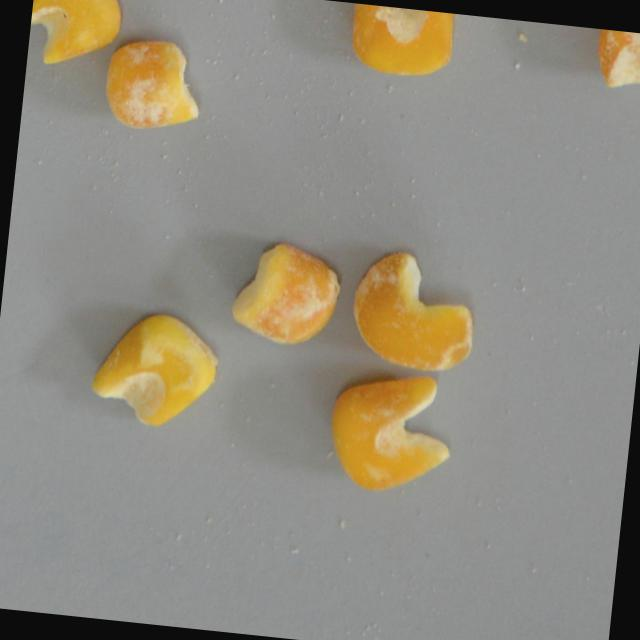dañado: (342, 241, 483, 379), (320, 369, 459, 505), (96, 30, 208, 140), (587, 27, 640, 96)
pelicula: (82, 301, 224, 438), (224, 235, 345, 351), (344, 2, 457, 81)
punto_negro: (25, 0, 125, 74)
